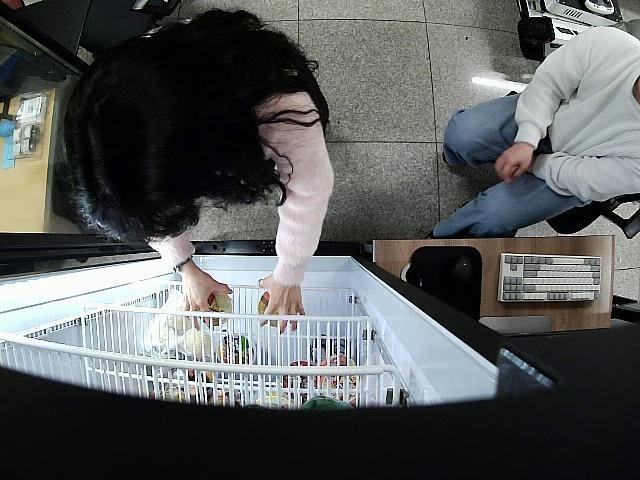04_chapagetti_S: (199, 290, 235, 326), (258, 292, 293, 329)
